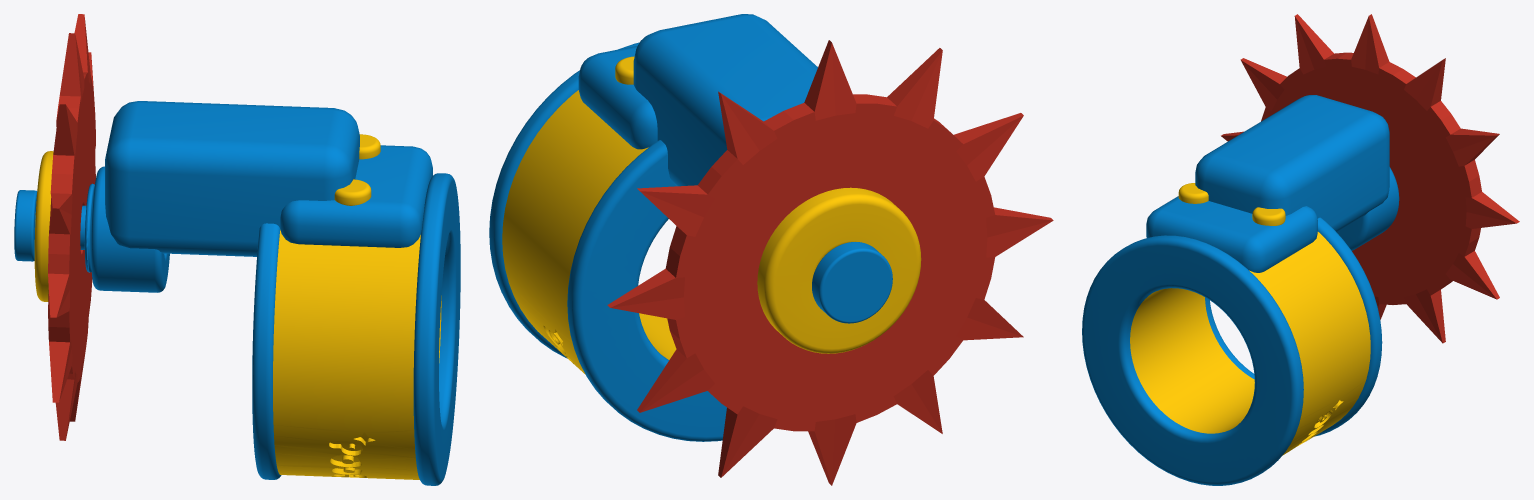
The model's file is scallop.glb.
3 views of the same model, side by side, from view 1: azimuth 30°, elevation 25°; view 2: azimuth 150°, elevation 25°; view 3: azimuth 270°, elevation 25° (orthographic). The views are drawn at different scales.
Visible parts, largest first — view 1: scallop-part-001, scallop-part-007, scallop-part-008, scallop-part-002, scallop-part-004, scallop-part-003, scallop-part-009, scallop-part-012, scallop-part-013, scallop-part-005, scallop-part-011; view 2: scallop-part-008, scallop-part-003, scallop-part-001, scallop-part-007, scallop-part-012, scallop-part-013, scallop-part-004, scallop-part-002; view 3: scallop-part-008, scallop-part-002, scallop-part-001, scallop-part-007, scallop-part-004, scallop-part-003, scallop-part-009, scallop-part-006, scallop-part-005.
Boxes of the visible parts, x1,y1,x2,y2 form: scallop-part-001: [273, 230, 441, 479]; scallop-part-007: [105, 101, 359, 256]; scallop-part-008: [48, 14, 95, 440]; scallop-part-002: [413, 173, 460, 485]; scallop-part-004: [280, 145, 432, 247]; scallop-part-003: [252, 223, 281, 479]; scallop-part-009: [91, 166, 169, 292]; scallop-part-012: [34, 151, 53, 301]; scallop-part-013: [14, 190, 37, 261]; scallop-part-005: [334, 179, 371, 205]; scallop-part-011: [84, 183, 94, 272]; scallop-part-008: [607, 40, 1053, 485]; scallop-part-003: [567, 140, 726, 441]; scallop-part-001: [502, 90, 676, 374]; scallop-part-007: [633, 14, 817, 186]; scallop-part-012: [757, 187, 921, 353]; scallop-part-013: [812, 242, 892, 323]; scallop-part-004: [578, 45, 657, 149]; scallop-part-002: [489, 42, 639, 358]; scallop-part-008: [1221, 14, 1519, 343]; scallop-part-002: [1082, 235, 1303, 485]; scallop-part-001: [1130, 232, 1370, 455]; scallop-part-007: [1195, 95, 1389, 232]; scallop-part-004: [1146, 196, 1317, 272]; scallop-part-003: [1205, 217, 1382, 436]; scallop-part-009: [1337, 167, 1399, 250]; scallop-part-006: [1252, 207, 1285, 225]; scallop-part-005: [1178, 183, 1208, 203].
Bounding box in the file's own units: 3 × 2.7 × 2.99.
